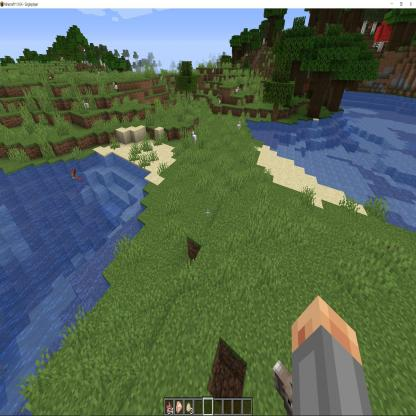minecraft-pigs: (204, 166, 233, 241), (254, 128, 258, 139), (254, 129, 258, 139)
